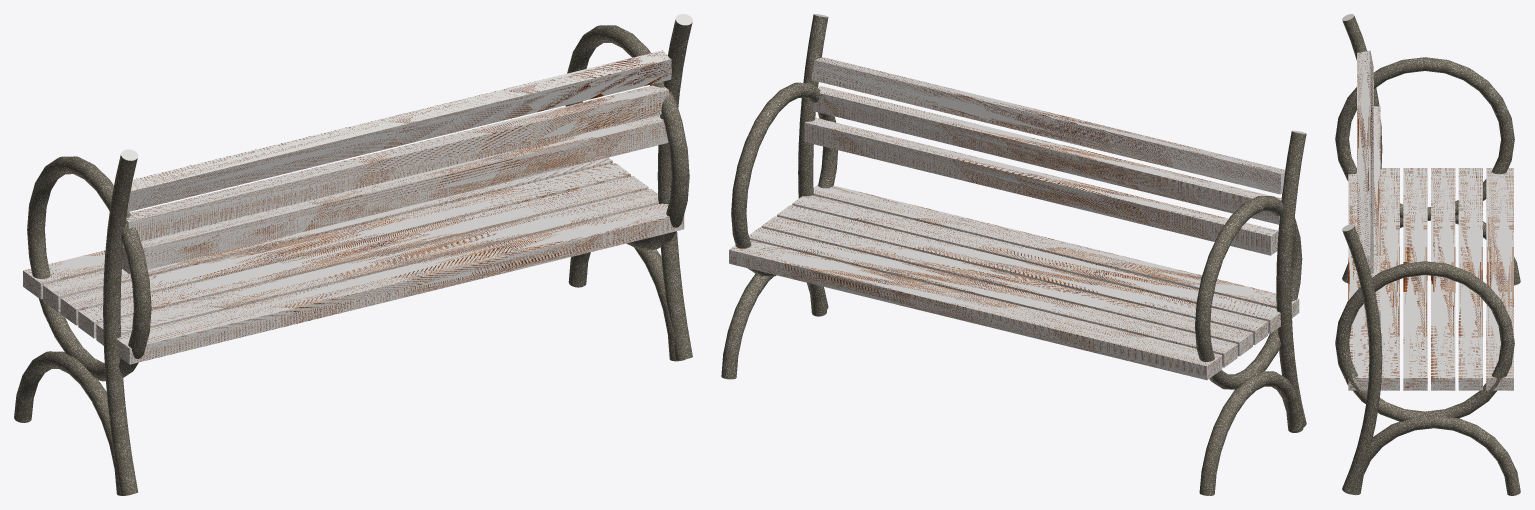
3 renders of one model, left to right at view 1: azimuth 30°, elevation 25°; view 2: azimuth 150°, elevation 25°; view 3: azimuth 270°, elevation 25°, orthographic. The views are drawn at different scales.
Visible parts, largest first — view 1: mesh9_mesh9-geometry, mesh2_mesh2-geometry, mesh14_mesh14-geometry, mesh13_mesh13-geometry, mesh6_mesh6-geometry, mesh5_mesh5-geometry, mesh3_mesh3-geometry, mesh8_mesh8-geometry, mesh7_mesh7-geometry, mesh1_mesh1-geometry, mesh11_mesh11-geometry, mesh10_mesh10-geometry (+2 smaller); view 2: mesh9_mesh9-geometry, mesh4_mesh4-geometry, mesh13_mesh13-geometry, mesh14_mesh14-geometry, mesh5_mesh5-geometry, mesh6_mesh6-geometry, mesh7_mesh7-geometry, mesh3_mesh3-geometry, mesh2_mesh2-geometry, mesh8_mesh8-geometry, mesh1_mesh1-geometry, mesh10_mesh10-geometry (+2 smaller); view 3: mesh1_mesh1-geometry, mesh5_mesh5-geometry, mesh6_mesh6-geometry, mesh7_mesh7-geometry, mesh4_mesh4-geometry, mesh8_mesh8-geometry, mesh9_mesh9-geometry, mesh3_mesh3-geometry, mesh11_mesh11-geometry, mesh12_mesh12-geometry, mesh2_mesh2-geometry, mesh13_mesh13-geometry (+1 smaller).
Part boxes in pixels (<box>): mesh9_mesh9-geometry: <box>103,50,671,495</box>; mesh2_mesh2-geometry: <box>116,203,684,364</box>; mesh14_mesh14-geometry: <box>126,85,669,241</box>; mesh13_mesh13-geometry: <box>122,115,668,274</box>; mesh6_mesh6-geometry: <box>60,163,630,325</box>; mesh5_mesh5-geometry: <box>78,176,648,338</box>; mesh3_mesh3-geometry: <box>96,189,658,345</box>; mesh8_mesh8-geometry: <box>27,156,151,381</box>; mesh7_mesh7-geometry: <box>43,157,612,312</box>; mesh1_mesh1-geometry: <box>565,25,689,249</box>; mesh11_mesh11-geometry: <box>657,14,692,360</box>; mesh10_mesh10-geometry: <box>14,351,131,495</box>; mesh9_mesh9-geometry: <box>811,57,1306,427</box>; mesh4_mesh4-geometry: <box>729,240,1222,380</box>; mesh13_mesh13-geometry: <box>804,117,1278,255</box>; mesh14_mesh14-geometry: <box>813,86,1281,224</box>; mesh5_mesh5-geometry: <box>777,205,1268,344</box>; mesh6_mesh6-geometry: <box>761,216,1252,356</box>; mesh7_mesh7-geometry: <box>748,227,1237,367</box>; mesh3_mesh3-geometry: <box>792,195,1280,333</box>; mesh2_mesh2-geometry: <box>813,185,1299,317</box>; mesh8_mesh8-geometry: <box>1195,196,1302,389</box>; mesh1_mesh1-geometry: <box>731,82,837,276</box>; mesh10_mesh10-geometry: <box>1199,371,1303,495</box>; mesh1_mesh1-geometry: <box>1335,261,1514,421</box>; mesh5_mesh5-geometry: <box>1403,168,1427,390</box>; mesh6_mesh6-geometry: <box>1431,168,1455,390</box>; mesh7_mesh7-geometry: <box>1458,168,1482,390</box>; mesh4_mesh4-geometry: <box>1486,168,1513,390</box>; mesh8_mesh8-geometry: <box>1335,57,1514,220</box>; mesh9_mesh9-geometry: <box>1342,14,1382,283</box>; mesh3_mesh3-geometry: <box>1380,168,1399,390</box>; mesh11_mesh11-geometry: <box>1342,224,1382,494</box>; mesh12_mesh12-geometry: <box>1352,415,1520,495</box>; mesh2_mesh2-geometry: <box>1348,173,1369,390</box>; mesh13_mesh13-geometry: <box>1366,106,1380,328</box>.
Size of the model in its own units: 0.8258 by 0.4777 by 0.2997.
